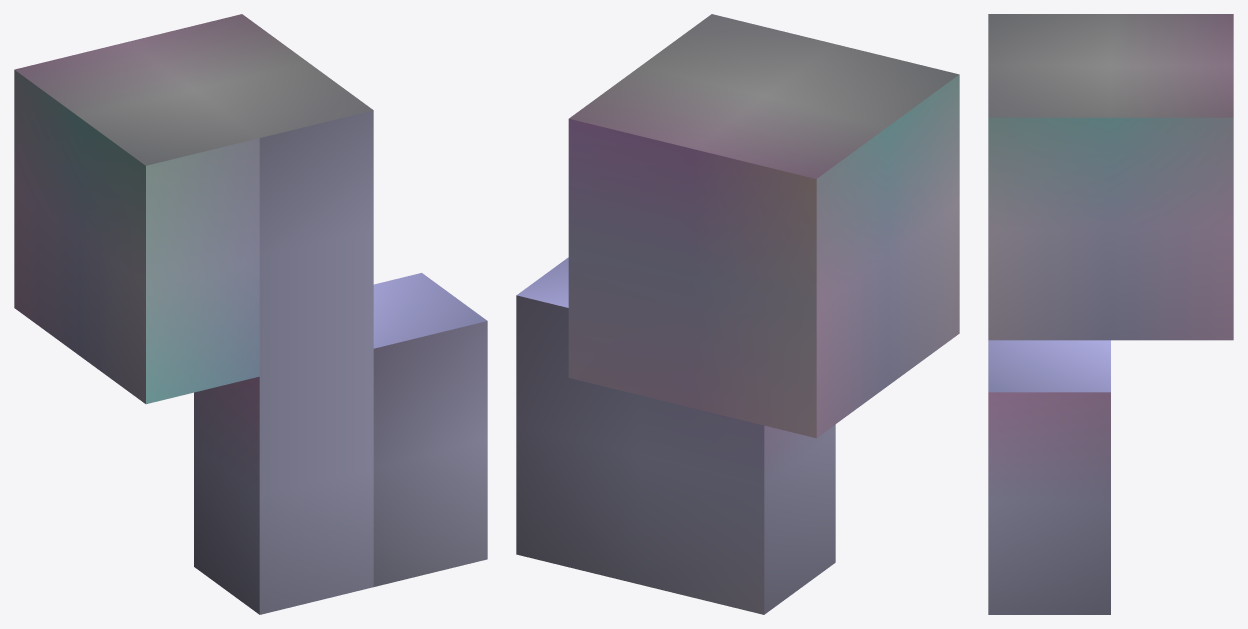
File: DrinkCan_Waste_A_00.fbx
The picture shows the model from 3 angles, left to right: view 1: azimuth 30°, elevation 25°; view 2: azimuth 150°, elevation 25°; view 3: azimuth 270°, elevation 25°; orthographic projection. The views are drawn at different scales.
Visible parts, largest first — view 1: DrinkCan_Waste_A_00; view 2: DrinkCan_Waste_A_00; view 3: DrinkCan_Waste_A_00.
Part boxes in pixels (left/top/right/bottom): DrinkCan_Waste_A_00: left=14, top=14, right=487, bottom=614; DrinkCan_Waste_A_00: left=516, top=14, right=959, bottom=614; DrinkCan_Waste_A_00: left=988, top=14, right=1233, bottom=614.
Bounding box in the file's own units: 15 × 20 × 10.
